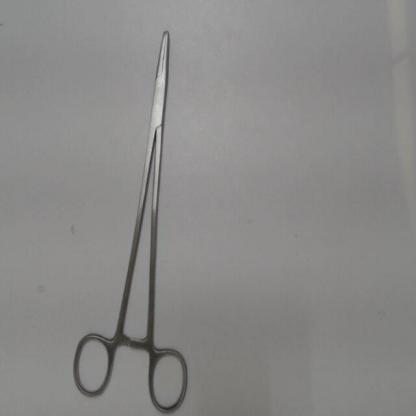8 Mayo Needle Holder: (64, 24, 195, 415)
